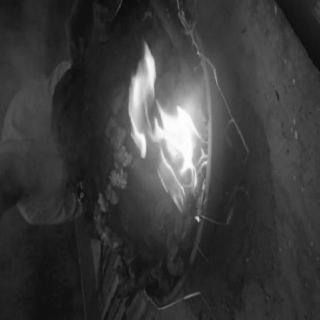Fire: (158, 100, 206, 202), (121, 43, 159, 157)
